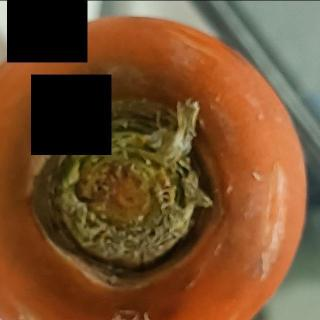carrot: (0, 13, 312, 320)
